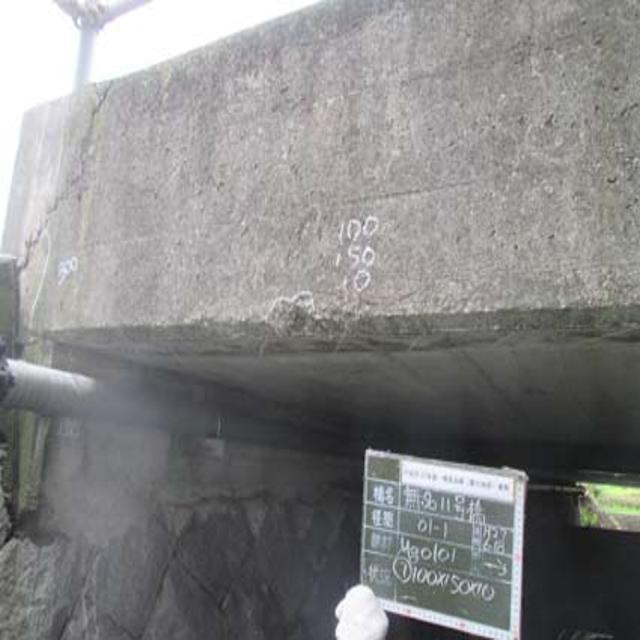spalling: (203, 276, 400, 361)
